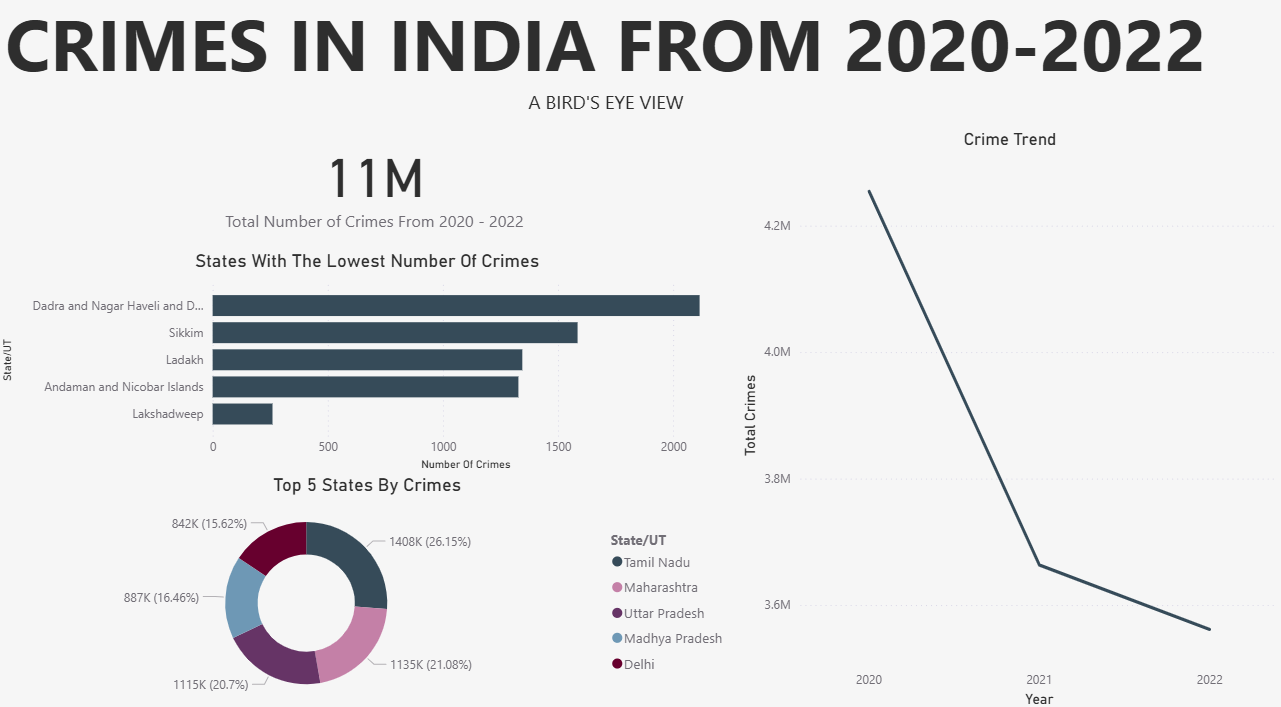

What the dashboard file says about the page in this screenshot:
{"tool":"powerbi","page":{"name":"Total Crime Overview","canvas":[1280,720],"ordinal":0},"visuals":[{"type":"card","fields":{"Values":["Sum(Worksheet.Total Crimes)"]},"box":[15.1,126.2,721.8,134.5],"z":0},{"type":"textbox","box":[0,0,1211.7,140],"z":1000},{"type":"lineChart","title":"Crime Trend","fields":{"Category":["Crime year sep.Attribute"],"Y":["Sum(Crime year sep.Crime No.)"]},"box":[736.9,140,543.4,580.4],"z":2000},{"type":"donutChart","title":"Top 5 States By Crimes ","fields":{"Y":["Sum(21-22 data.Total Crimes)"],"Category":["21-22 data.State/UT"]},"box":[0,484.4,736.9,236],"z":3000},{"type":"clusteredBarChart","title":"States With The Lowest Number Of Crimes","fields":{"Category":["21-22 data.State/UT"],"Y":["Sum(21-22 data.Total Crimes)"]},"box":[0,260.7,736.9,223.7],"z":4000}]}

Visuals, with their boxes in screenshot pixels (x1, y1, x2, y2), scaled from the page's 1280x720 canvas onto the 1281x707 screenshot:
card - Sum(Worksheet.Total Crimes): <bbox>15, 124, 737, 256</bbox>
textbox: <bbox>0, 0, 1213, 137</bbox>
"Crime Trend" lineChart: <bbox>737, 137, 1280, 706</bbox>
"Top 5 States By Crimes " donutChart: <bbox>0, 476, 737, 706</bbox>
"States With The Lowest Number Of Crimes" clusteredBarChart: <bbox>0, 256, 737, 476</bbox>
